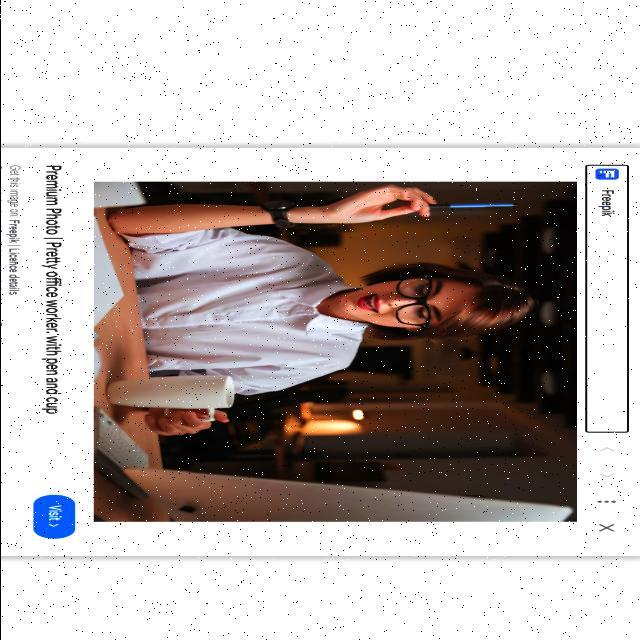face_no_mask: (341, 276, 471, 331)
